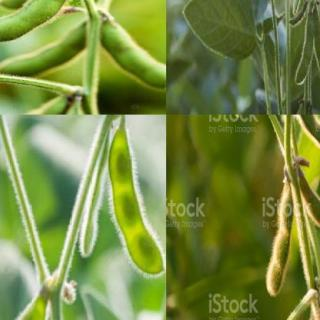soya: (110, 130, 166, 277), (98, 19, 166, 92), (0, 21, 88, 75), (0, 0, 79, 42), (266, 186, 292, 296), (298, 169, 320, 230), (295, 18, 313, 86), (290, 115, 319, 153), (12, 303, 48, 319), (277, 101, 305, 114), (0, 0, 36, 10), (314, 12, 319, 78), (292, 0, 308, 15)
